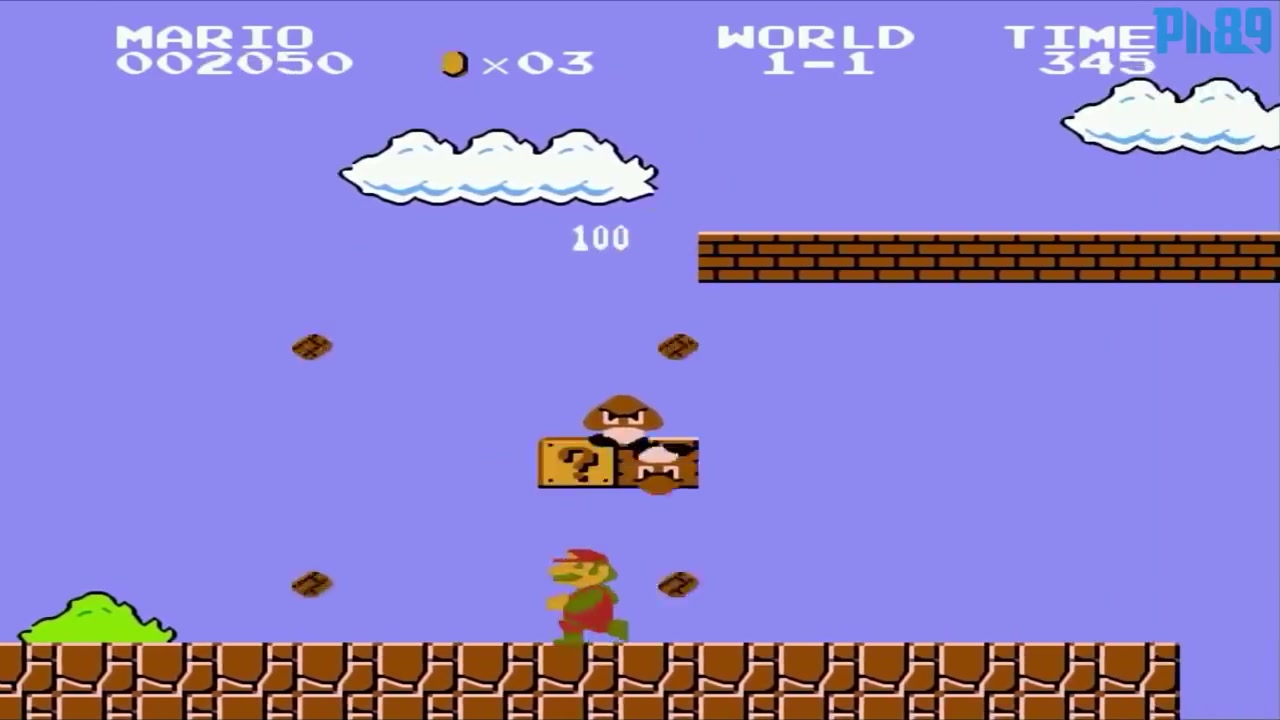mario: (538, 542, 634, 649)
